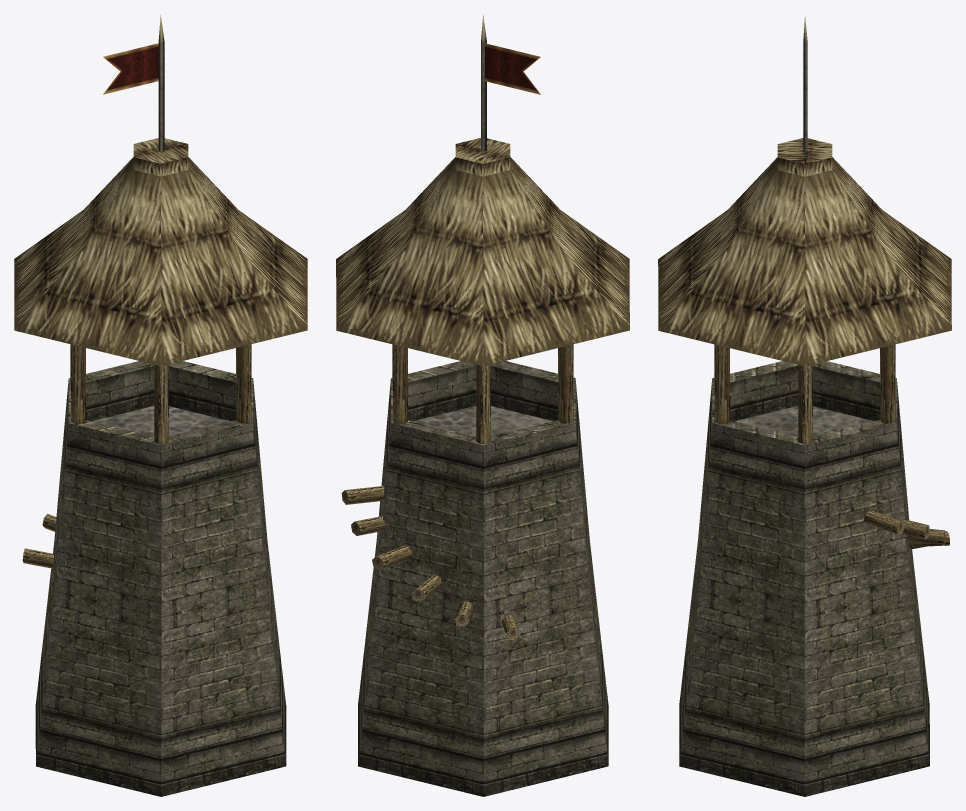
Rendered from shijieditu_07.FBX.
The picture shows the model from 3 angles, left to right: view 1: azimuth 30°, elevation 25°; view 2: azimuth 150°, elevation 25°; view 3: azimuth 270°, elevation 25°; orthographic projection.
Visible parts, largest first — view 1: shijieditu_07; view 2: shijieditu_07; view 3: shijieditu_07.
Boxes of the visible parts, x1,y1,x2,y2 form: shijieditu_07: (14,15,307,796); shijieditu_07: (336,14,629,796); shijieditu_07: (658,15,951,796).
Bounding box in the file's own units: 13.27 × 31.19 × 11.5.
